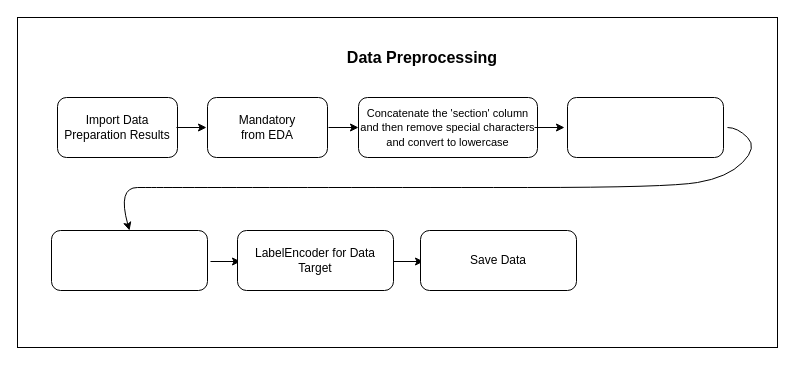
Image size: 795x365. Some labels were removed from this diagram. Here are the shapes that lost their labels. From the top down, the centre of each, then its label:
pixel 645 127: Remove stopwords, join the words with a single space and tokenize
pixel 129 260: Data Transform using TFIDF
